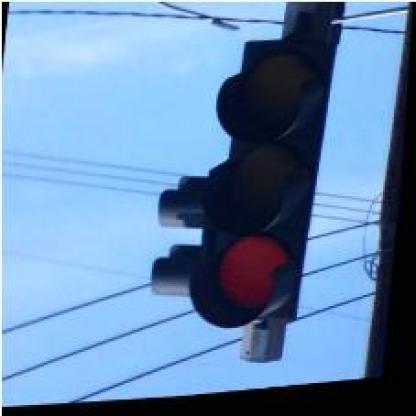red: (189, 41, 335, 340)
